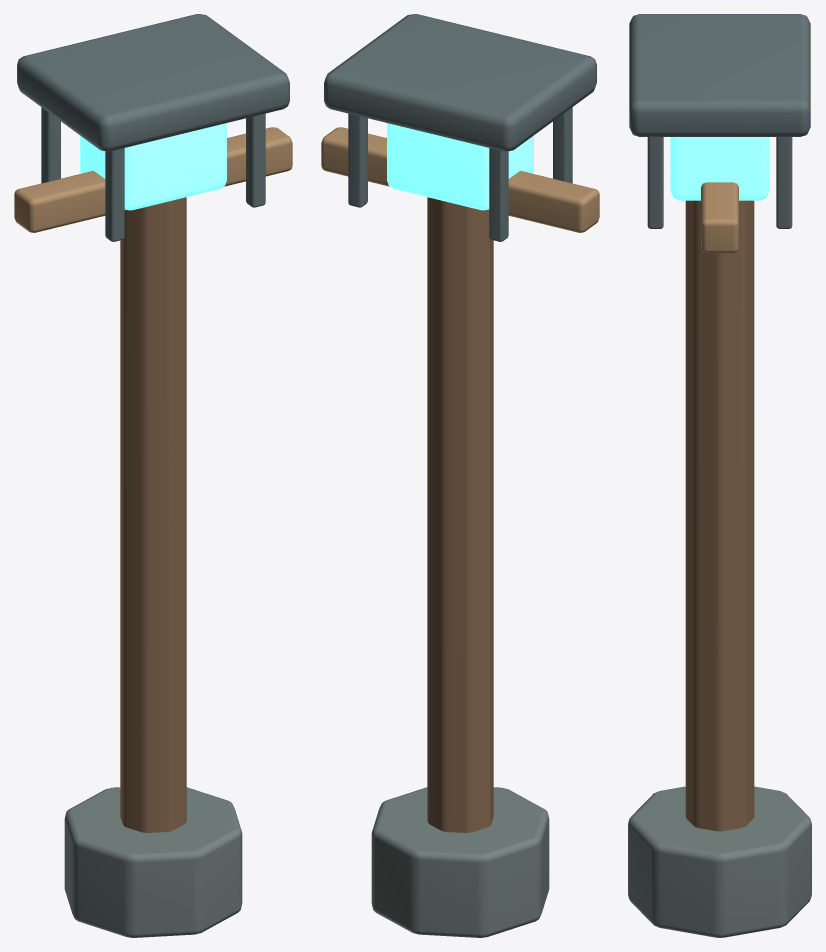
File: SM_LanternPost_01.fbx
3 views of the same model, side by side, from view 1: azimuth 30°, elevation 25°; view 2: azimuth 150°, elevation 25°; view 3: azimuth 270°, elevation 25° (orthographic).
Visible parts, largest first — view 1: SM_LanternPost_01; view 2: SM_LanternPost_01; view 3: SM_LanternPost_01.
Part boxes in pixels (left/top/right/bottom): SM_LanternPost_01: left=14, top=14, right=292, bottom=937; SM_LanternPost_01: left=321, top=14, right=599, bottom=937; SM_LanternPost_01: left=628, top=14, right=811, bottom=937.
Bounding box in the file's own units: 1.05 × 3.19 × 0.6288.
